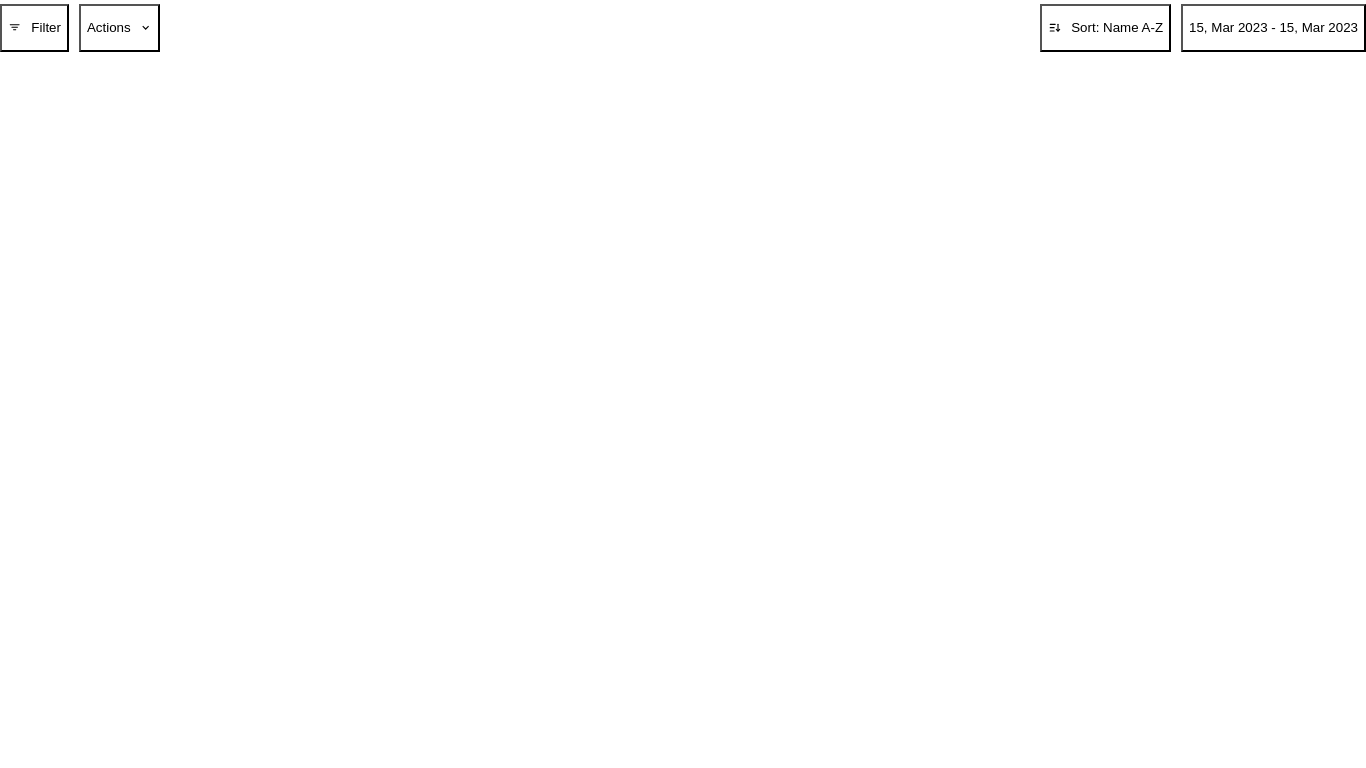
Test: renders filter controls › render filter menu
The width and height of the screenshot is (1366, 768).
Click the button with test id "filter-menu-button": (34, 28) [0,4,69,52]
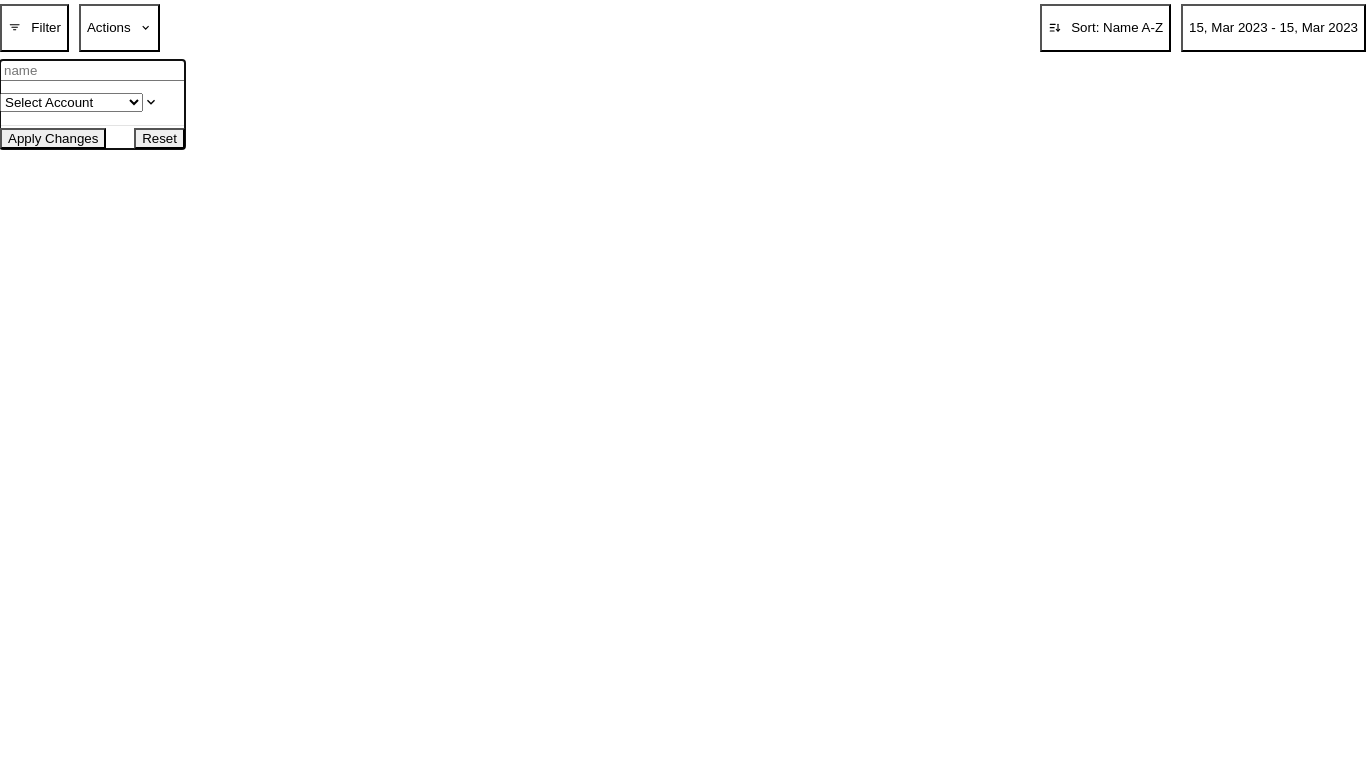
Check: the element with test id "filter-menu" is shown, box [0,60,185,149]
Check: the field with test id "filter-meeting-title-input" is shown, box [0,60,185,81]
Check: the dropdown with test id "filter-owner-select" is shown, box [0,93,143,112]
